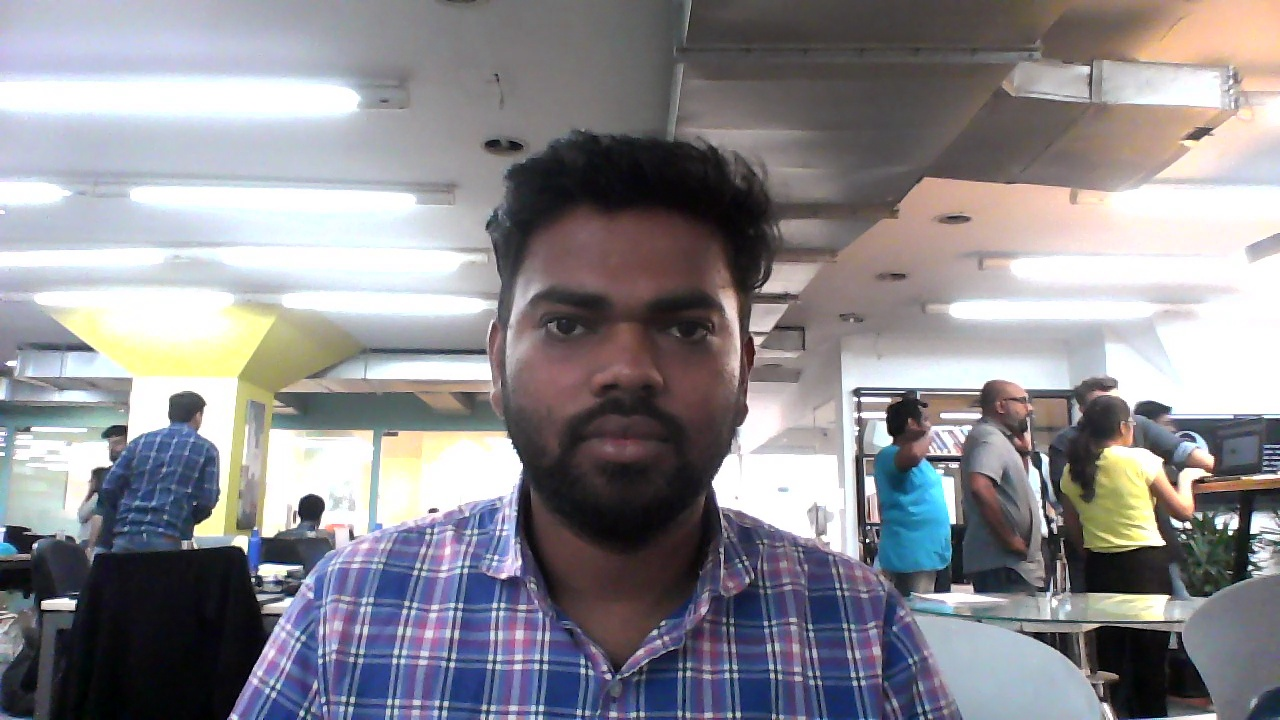open: (477, 125, 767, 548)
